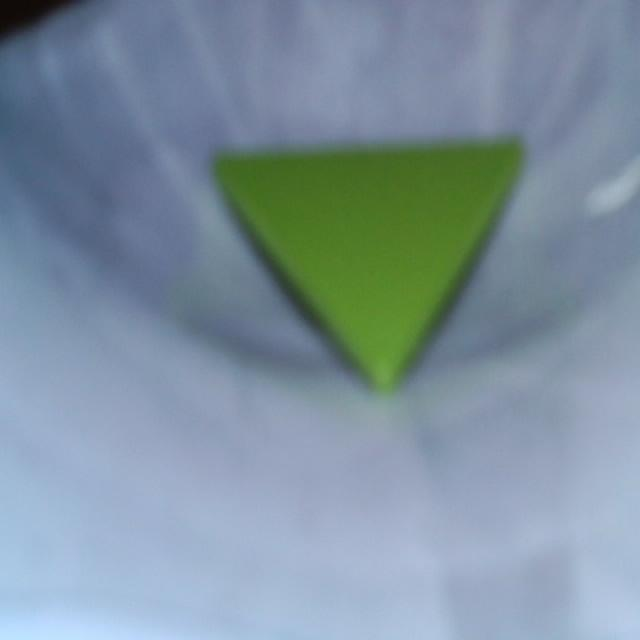triangle: (217, 141, 522, 389)
